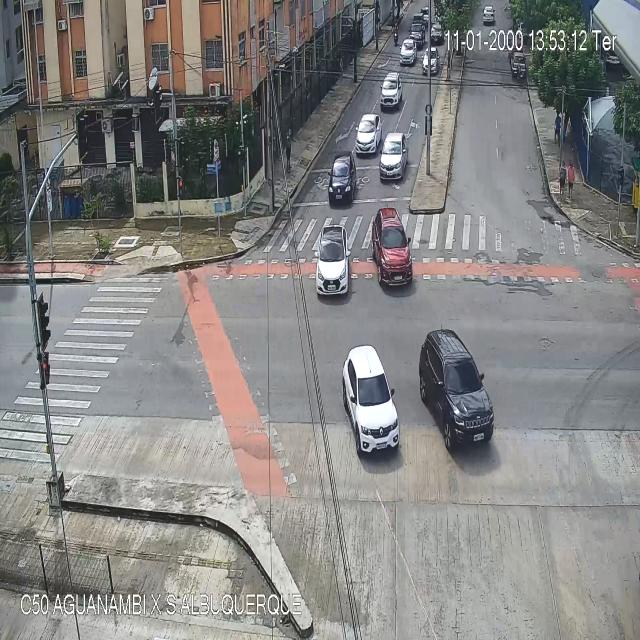Car: (420, 329, 494, 453), (345, 343, 401, 457), (372, 208, 413, 288), (316, 223, 350, 299), (328, 153, 357, 203), (381, 130, 407, 180), (356, 111, 382, 156), (380, 70, 401, 108), (420, 46, 440, 74), (399, 38, 416, 65), (409, 20, 424, 48), (511, 49, 526, 74), (431, 22, 444, 41), (482, 6, 495, 24), (420, 6, 429, 21)
Motorcycle: (517, 63, 523, 84), (393, 22, 398, 47)
